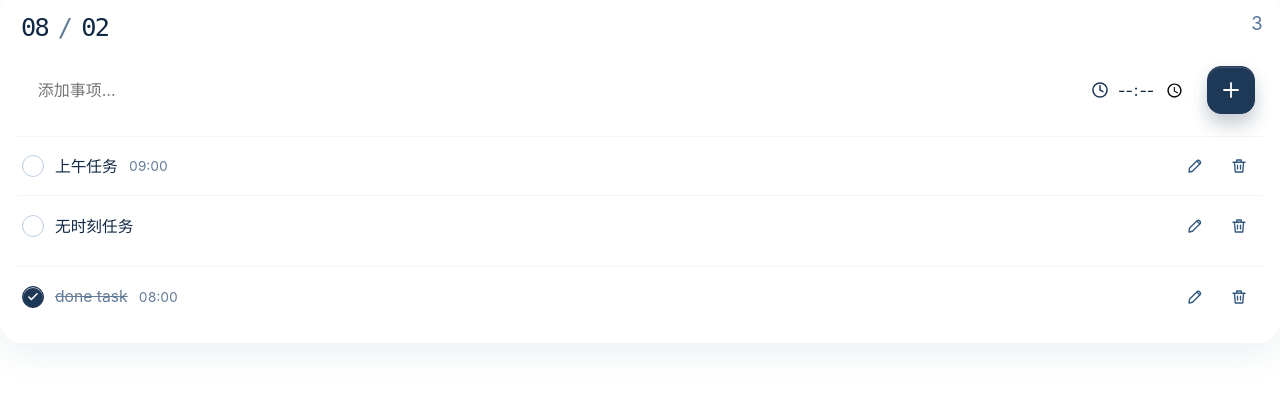
Test: TodoSection › keeps the old checkbox value when the server rejects
Click the checkbox named "完成 上午任务" at (33, 166), box x1=22 y1=155 x2=44 y2=177
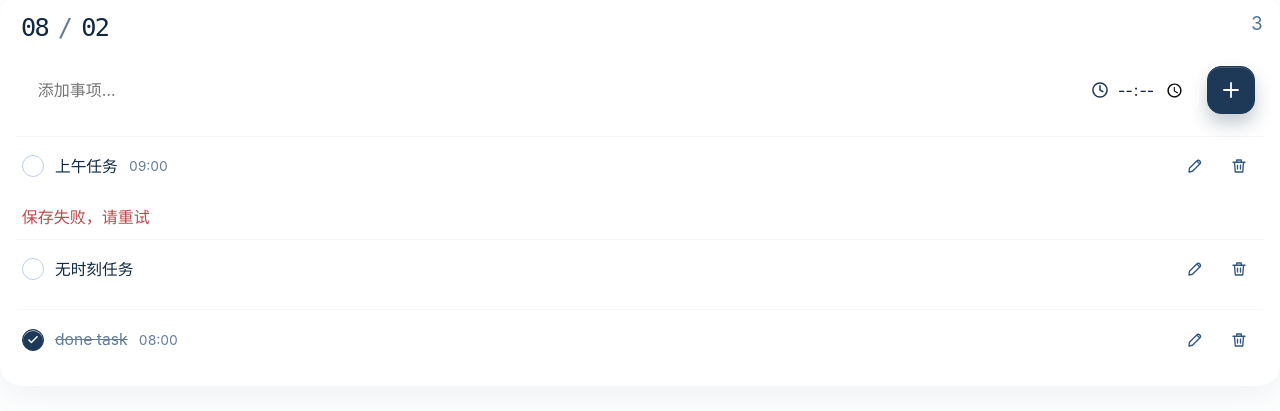
Result: the text "保存失败，请重试" is shown at x1=22 y1=207 x2=150 y2=227
